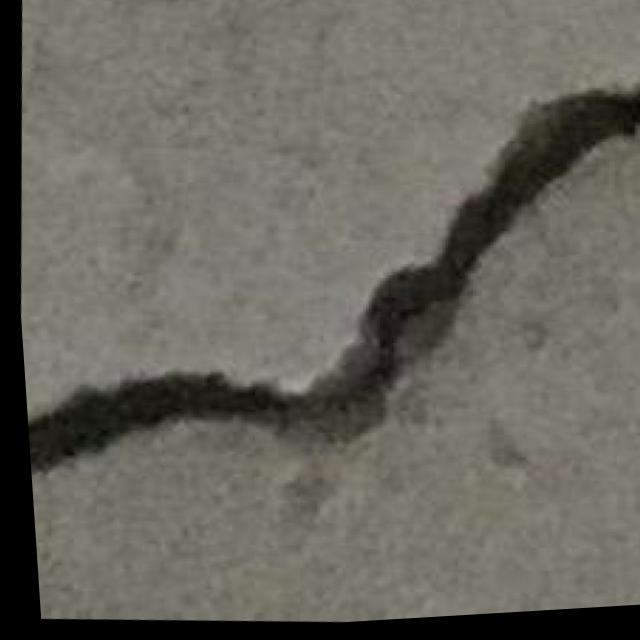Crack: (4, 45, 640, 549)
